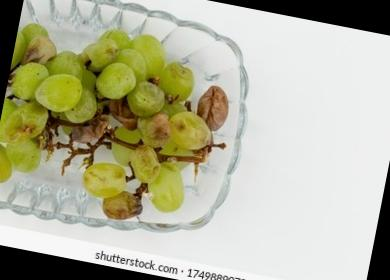Grape Rotten: (0, 8, 239, 236)
